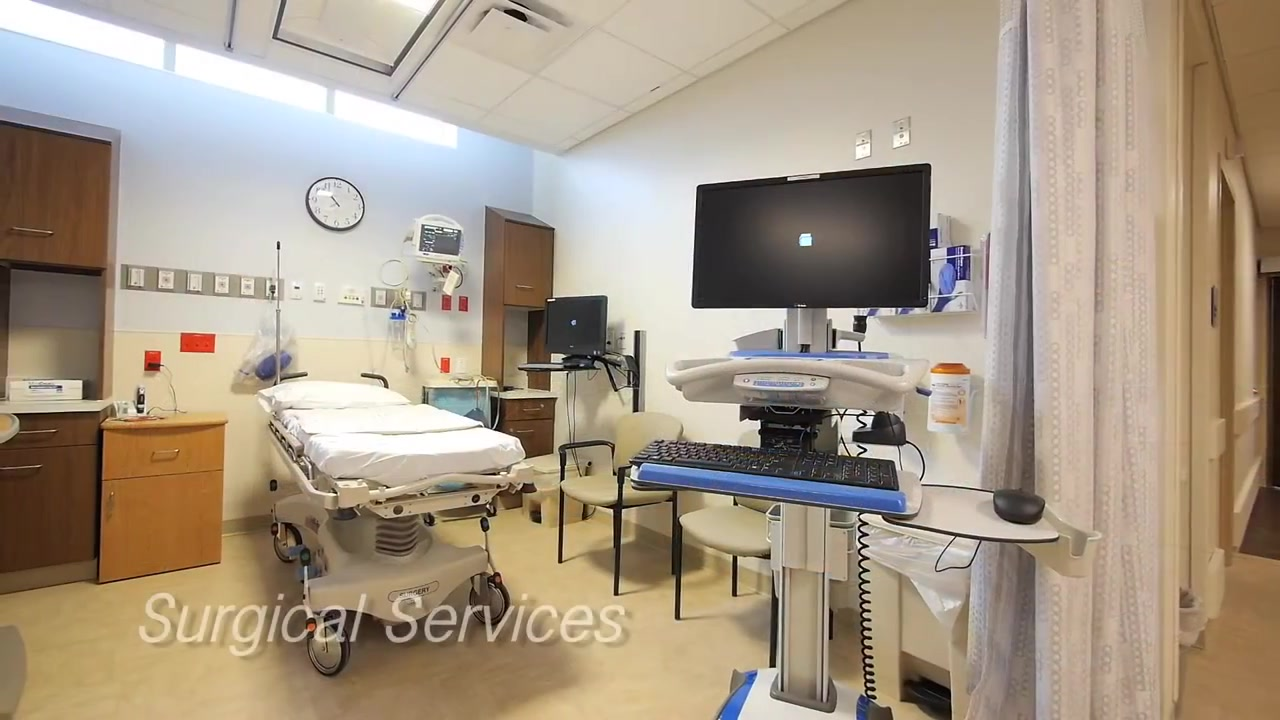bedside_monitor: (412, 214, 464, 266)
bedside_table: (98, 411, 227, 583), (491, 386, 559, 459)
cabinet: (1, 128, 110, 270), (489, 206, 551, 309)
chair: (558, 411, 684, 597), (677, 433, 763, 665)
computer: (691, 163, 932, 309), (544, 296, 607, 358)
counter: (1, 393, 108, 585)
curtain: (964, 1, 1160, 720)
dispenser: (863, 245, 974, 318)
exam_table: (253, 378, 524, 677)
handle: (12, 225, 54, 236), (1, 463, 42, 473), (11, 429, 59, 435), (149, 448, 181, 455), (107, 488, 115, 515), (514, 284, 534, 290), (516, 429, 535, 434), (521, 408, 542, 412)
iv_pole: (274, 241, 283, 385)
keyboard: (629, 439, 901, 491)
mouse: (992, 487, 1048, 525), (563, 362, 580, 370)
telephone: (113, 388, 147, 419)
waste_bin: (855, 511, 1001, 720), (522, 452, 592, 528), (421, 380, 493, 424)
